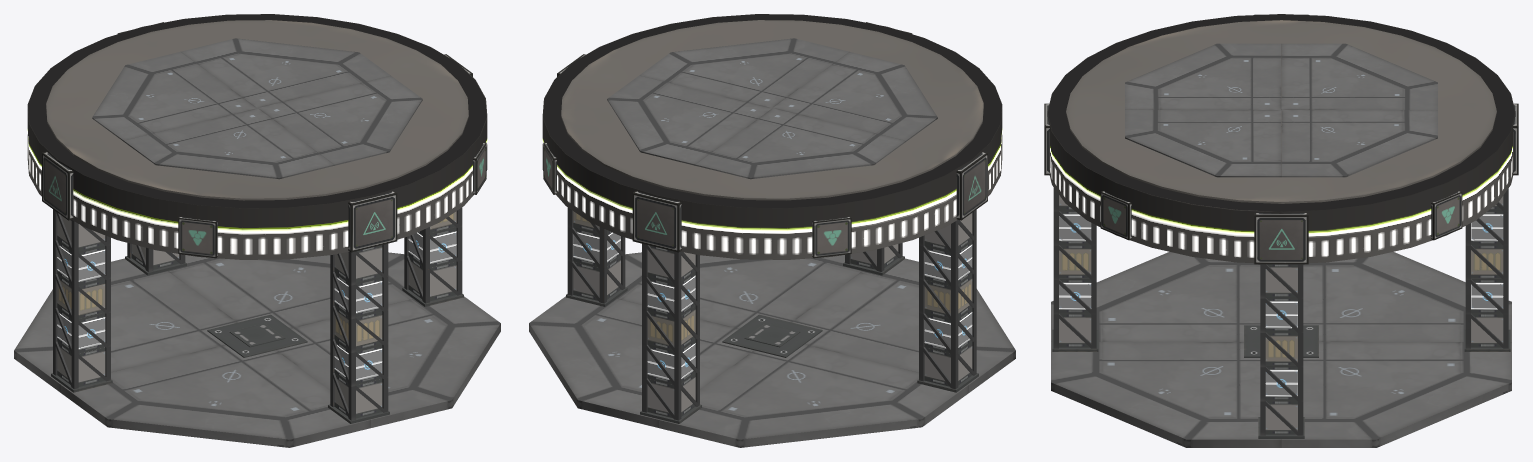
Rendered from Sci-Fi_Prefab_Var14.fbx.
3 renders of one model, left to right at view 1: azimuth 30°, elevation 25°; view 2: azimuth 150°, elevation 25°; view 3: azimuth 270°, elevation 25°, orthographic.
Parts seen in each view (by area): view 1: ProjectRG_Environment_Sci-Fi_DonutViewingBlock.027, ProjectRG_Environment_Sci-Fi_TowerGlassBlock.027, ProjectRG_Environment_Sci-Fi_OctagonPlatform.030, ProjectRG_Environment_Sci-Fi_OctagonPlatform.031, ProjectRG_Environment_Sci-Fi_OctagonPlatform.029, ProjectRG_Environment_Sci-Fi_OctagonPlatform.032, ProjectRG_Environment_Sci-Fi_OctagonPlatform.034, ProjectRG_Environment_Sci-Fi_OctagonPlatform.035, ProjectRG_Environment_Sci-Fi_OctagonPlatform.033, ProjectRG_Environment_Sci-Fi_OctagonPlatform.036, ProjectRG_Environment_Sci-Fi_ModBlock_Norm.010, ProjectRG_Environment_Sci-Fi_TowerPanel_Var2_A.006 (+29 smaller); view 2: ProjectRG_Environment_Sci-Fi_DonutViewingBlock.027, ProjectRG_Environment_Sci-Fi_TowerGlassBlock.027, ProjectRG_Environment_Sci-Fi_OctagonPlatform.029, ProjectRG_Environment_Sci-Fi_OctagonPlatform.032, ProjectRG_Environment_Sci-Fi_OctagonPlatform.030, ProjectRG_Environment_Sci-Fi_OctagonPlatform.031, ProjectRG_Environment_Sci-Fi_OctagonPlatform.033, ProjectRG_Environment_Sci-Fi_OctagonPlatform.036, ProjectRG_Environment_Sci-Fi_OctagonPlatform.034, ProjectRG_Environment_Sci-Fi_OctagonPlatform.035, ProjectRG_Environment_Sci-Fi_ModBlock_Norm.009, ProjectRG_Environment_Sci-Fi_TowerPanel_Var2_A.006 (+29 smaller); view 3: ProjectRG_Environment_Sci-Fi_DonutViewingBlock.027, ProjectRG_Environment_Sci-Fi_TowerGlassBlock.027, ProjectRG_Environment_Sci-Fi_OctagonPlatform.031, ProjectRG_Environment_Sci-Fi_OctagonPlatform.032, ProjectRG_Environment_Sci-Fi_OctagonPlatform.030, ProjectRG_Environment_Sci-Fi_OctagonPlatform.029, ProjectRG_Environment_Sci-Fi_OctagonPlatform.035, ProjectRG_Environment_Sci-Fi_OctagonPlatform.036, ProjectRG_Environment_Sci-Fi_OctagonPlatform.033, ProjectRG_Environment_Sci-Fi_OctagonPlatform.034, ProjectRG_Environment_Sci-Fi_ModBlock_Norm.007, ProjectRG_Environment_Sci-Fi_ModBlock_Norm.003 (+28 smaller).
Part boxes in pixels (x1,y1,x2,y2): ProjectRG_Environment_Sci-Fi_DonutViewingBlock.027: (27, 14, 487, 259); ProjectRG_Environment_Sci-Fi_TowerGlassBlock.027: (46, 20, 468, 200); ProjectRG_Environment_Sci-Fi_OctagonPlatform.030: (61, 344, 370, 447); ProjectRG_Environment_Sci-Fi_OctagonPlatform.031: (276, 296, 500, 427); ProjectRG_Environment_Sci-Fi_OctagonPlatform.029: (14, 258, 237, 392); ProjectRG_Environment_Sci-Fi_OctagonPlatform.032: (168, 252, 413, 328); ProjectRG_Environment_Sci-Fi_OctagonPlatform.034: (124, 108, 334, 179); ProjectRG_Environment_Sci-Fi_OctagonPlatform.035: (258, 75, 422, 165); ProjectRG_Environment_Sci-Fi_OctagonPlatform.033: (92, 51, 256, 141); ProjectRG_Environment_Sci-Fi_OctagonPlatform.036: (181, 38, 390, 107); ProjectRG_Environment_Sci-Fi_ModBlock_Norm.010: (348, 191, 397, 252); ProjectRG_Environment_Sci-Fi_TowerPanel_Var2_A.006: (207, 314, 307, 357); ProjectRG_Environment_Sci-Fi_DonutViewingBlock.027: (542, 14, 1002, 259); ProjectRG_Environment_Sci-Fi_TowerGlassBlock.027: (561, 20, 983, 200); ProjectRG_Environment_Sci-Fi_OctagonPlatform.029: (659, 344, 968, 447); ProjectRG_Environment_Sci-Fi_OctagonPlatform.032: (529, 296, 753, 427); ProjectRG_Environment_Sci-Fi_OctagonPlatform.030: (792, 258, 1015, 392); ProjectRG_Environment_Sci-Fi_OctagonPlatform.031: (616, 252, 861, 328); ProjectRG_Environment_Sci-Fi_OctagonPlatform.033: (695, 108, 905, 179); ProjectRG_Environment_Sci-Fi_OctagonPlatform.036: (607, 75, 771, 165); ProjectRG_Environment_Sci-Fi_OctagonPlatform.034: (773, 51, 937, 141); ProjectRG_Environment_Sci-Fi_OctagonPlatform.035: (639, 38, 848, 107); ProjectRG_Environment_Sci-Fi_ModBlock_Norm.009: (632, 191, 681, 252); ProjectRG_Environment_Sci-Fi_TowerPanel_Var2_A.006: (722, 314, 822, 357); ProjectRG_Environment_Sci-Fi_DonutViewingBlock.027: (1047, 14, 1515, 263); ProjectRG_Environment_Sci-Fi_TowerGlassBlock.027: (1066, 20, 1496, 203); ProjectRG_Environment_Sci-Fi_OctagonPlatform.031: (1051, 342, 1281, 447); ProjectRG_Environment_Sci-Fi_OctagonPlatform.032: (1281, 342, 1511, 447); ProjectRG_Environment_Sci-Fi_OctagonPlatform.030: (1051, 252, 1260, 341); ProjectRG_Environment_Sci-Fi_OctagonPlatform.029: (1303, 252, 1511, 341); ProjectRG_Environment_Sci-Fi_OctagonPlatform.035: (1125, 110, 1281, 177); ProjectRG_Environment_Sci-Fi_OctagonPlatform.036: (1281, 110, 1437, 177); ProjectRG_Environment_Sci-Fi_OctagonPlatform.033: (1281, 43, 1437, 109); ProjectRG_Environment_Sci-Fi_OctagonPlatform.034: (1125, 43, 1281, 109); ProjectRG_Environment_Sci-Fi_ModBlock_Norm.007: (1254, 212, 1308, 264); ProjectRG_Environment_Sci-Fi_ModBlock_Norm.003: (1431, 191, 1462, 240).
Size of the model in its own units: 5758 by 3478 by 5758.
